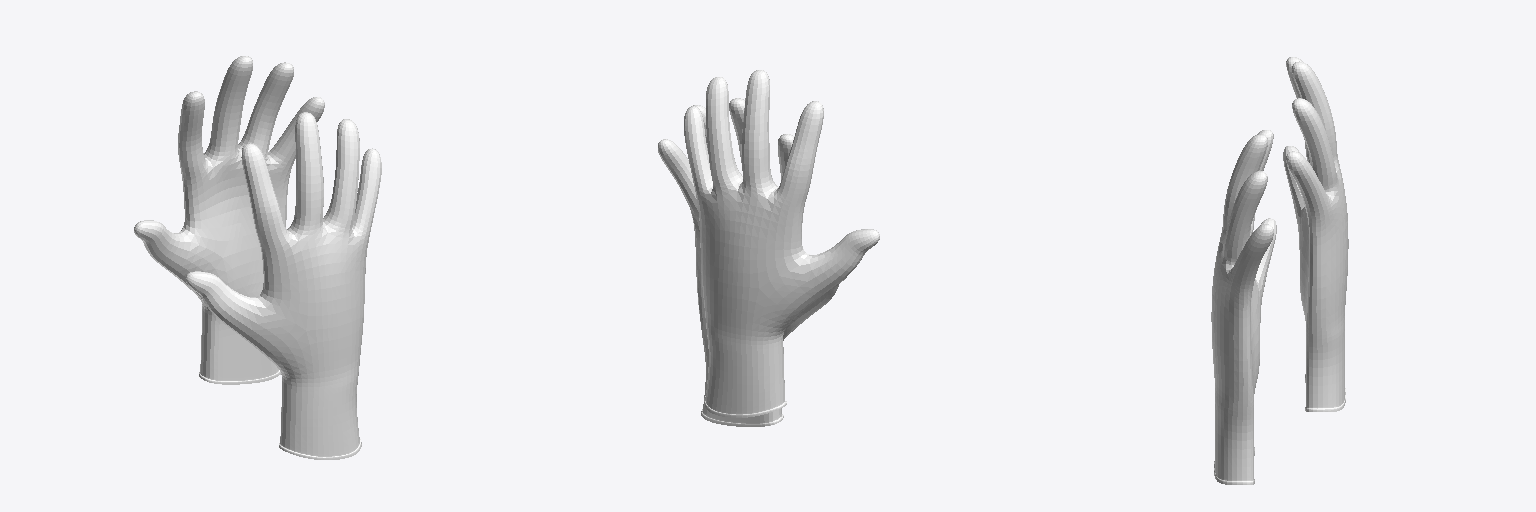
File: hands.obj
The picture shows the model from 3 angles: view 1: azimuth 30°, elevation 25°; view 2: azimuth 150°, elevation 25°; view 3: azimuth 270°, elevation 25°; orthographic projection.
Parts seen in each view (by area): view 1: Plane.001_Plane; view 2: Plane.001_Plane; view 3: Plane.001_Plane.
Part boxes in pixels (x1,y1,x2,y2): Plane.001_Plane: (134, 56, 381, 459); Plane.001_Plane: (658, 70, 879, 426); Plane.001_Plane: (1211, 57, 1348, 484).
Bounding box in the file's own units: 11.74 × 18.59 × 5.99.